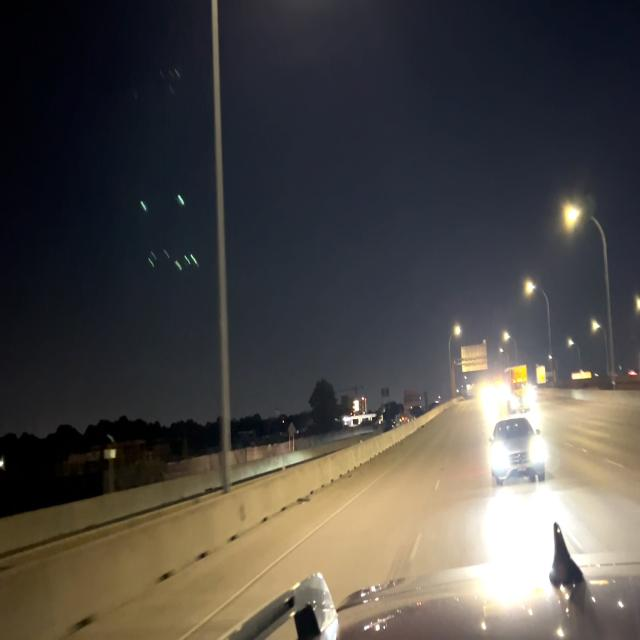back-of-sign: (460, 336, 489, 375)
